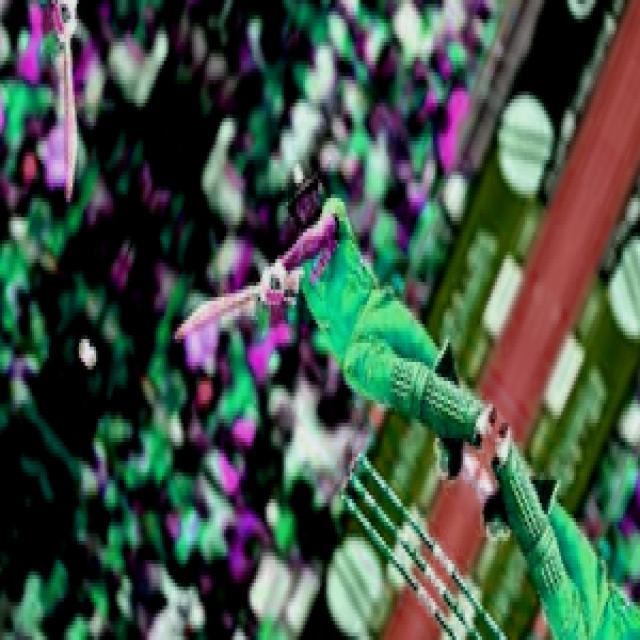toe: (173, 321, 195, 346)
